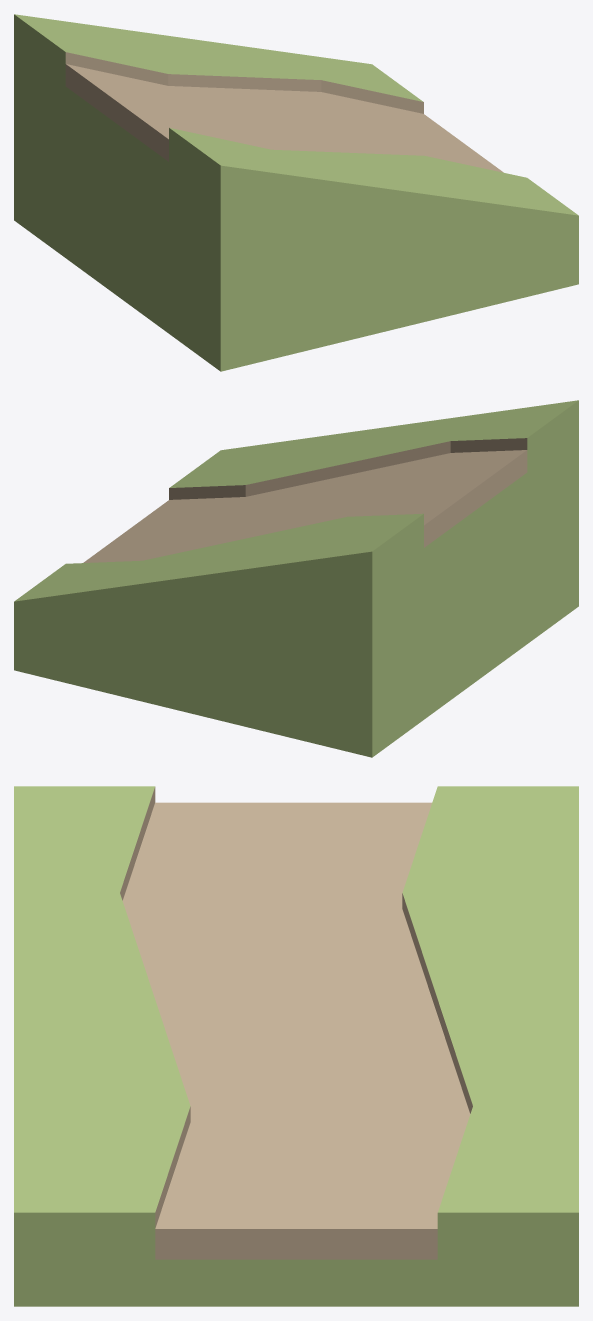
File: SM_GRASS_07.fbx
The picture shows the model from 3 angles, top to bottom: view 1: azimuth 30°, elevation 25°; view 2: azimuth 150°, elevation 25°; view 3: azimuth 270°, elevation 25°; orthographic projection. The views are drawn at different scales.
Visible parts, largest first — view 1: GRASS_07; view 2: GRASS_07; view 3: GRASS_07.
Part boxes in pixels (left/top/right/bottom): GRASS_07: left=14, top=14, right=578, bottom=371; GRASS_07: left=14, top=400, right=578, bottom=757; GRASS_07: left=14, top=786, right=578, bottom=1306.
Bounding box in the file's own units: 437 × 241 × 437.
